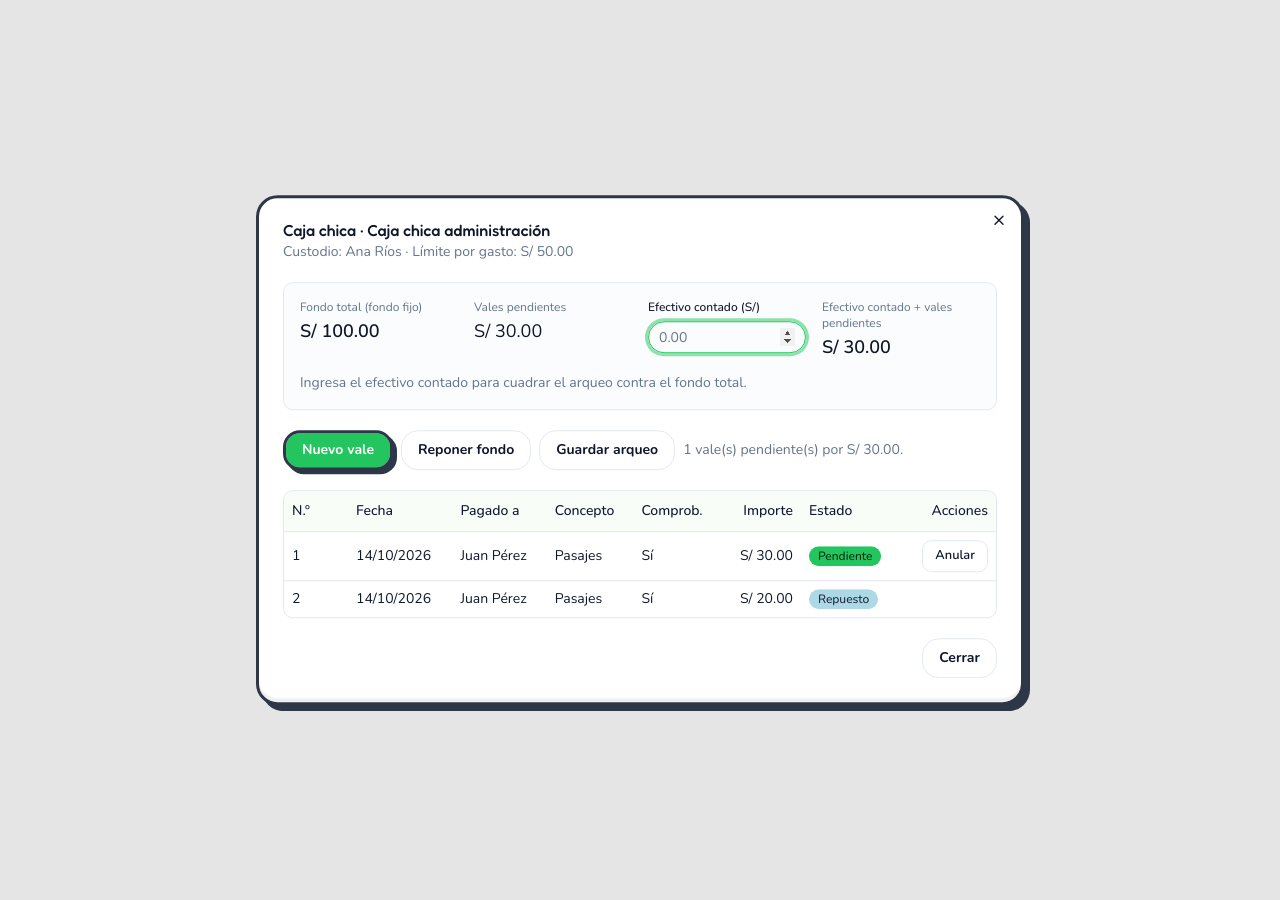
Test case: PettyCashPanel › cuadra el arqueo: efectivo contado + vales pendientes = fondo total
Expected: the text "Ingresa el efectivo contado para cuadrar el arqueo" is shown, [300,373,747,392]
Type "70" into the number field labelled "Efectivo contado (S/)" at x=727, y=337, box [648,321,806,353]
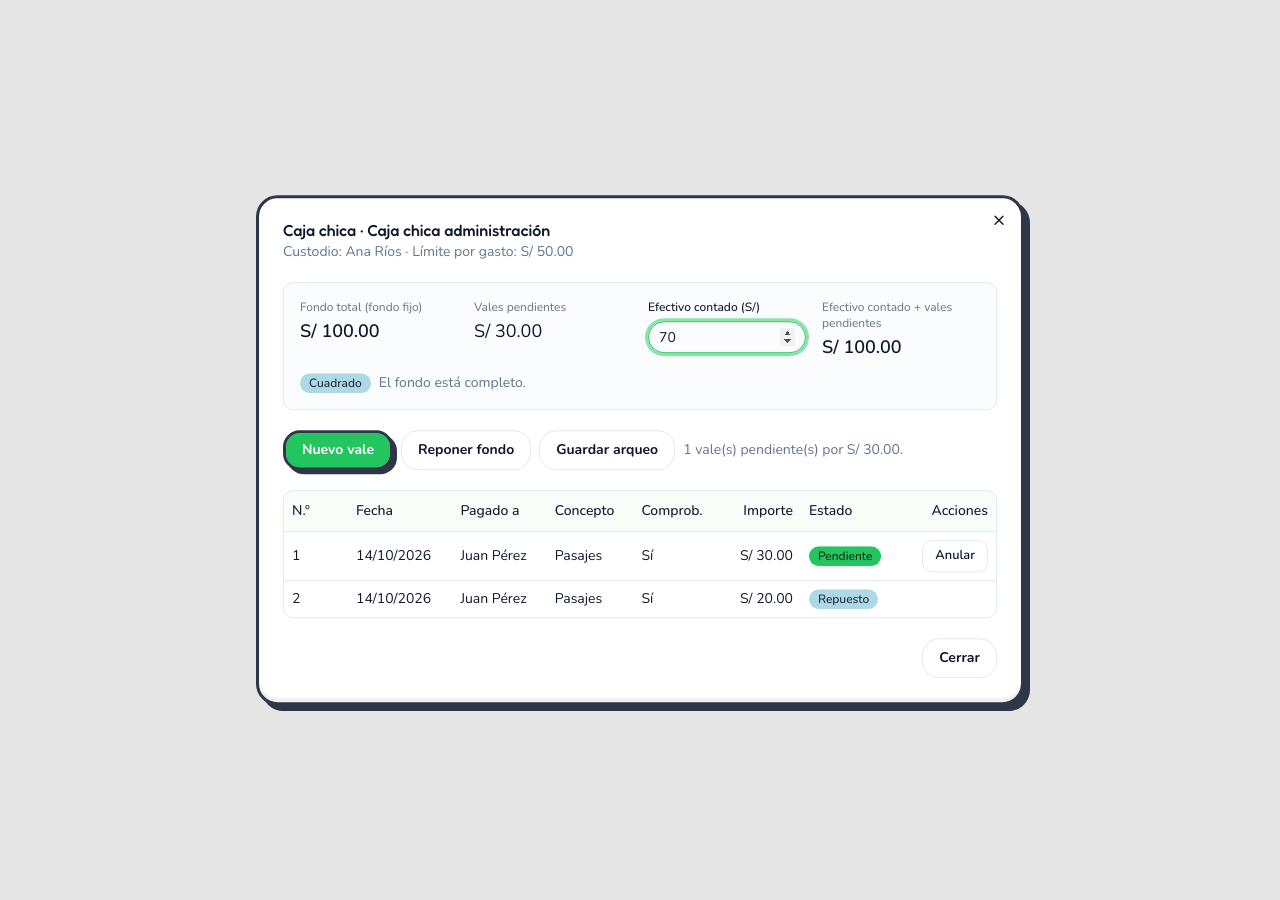
Now the text "Cuadrado" is shown, box [300,373,371,393]
